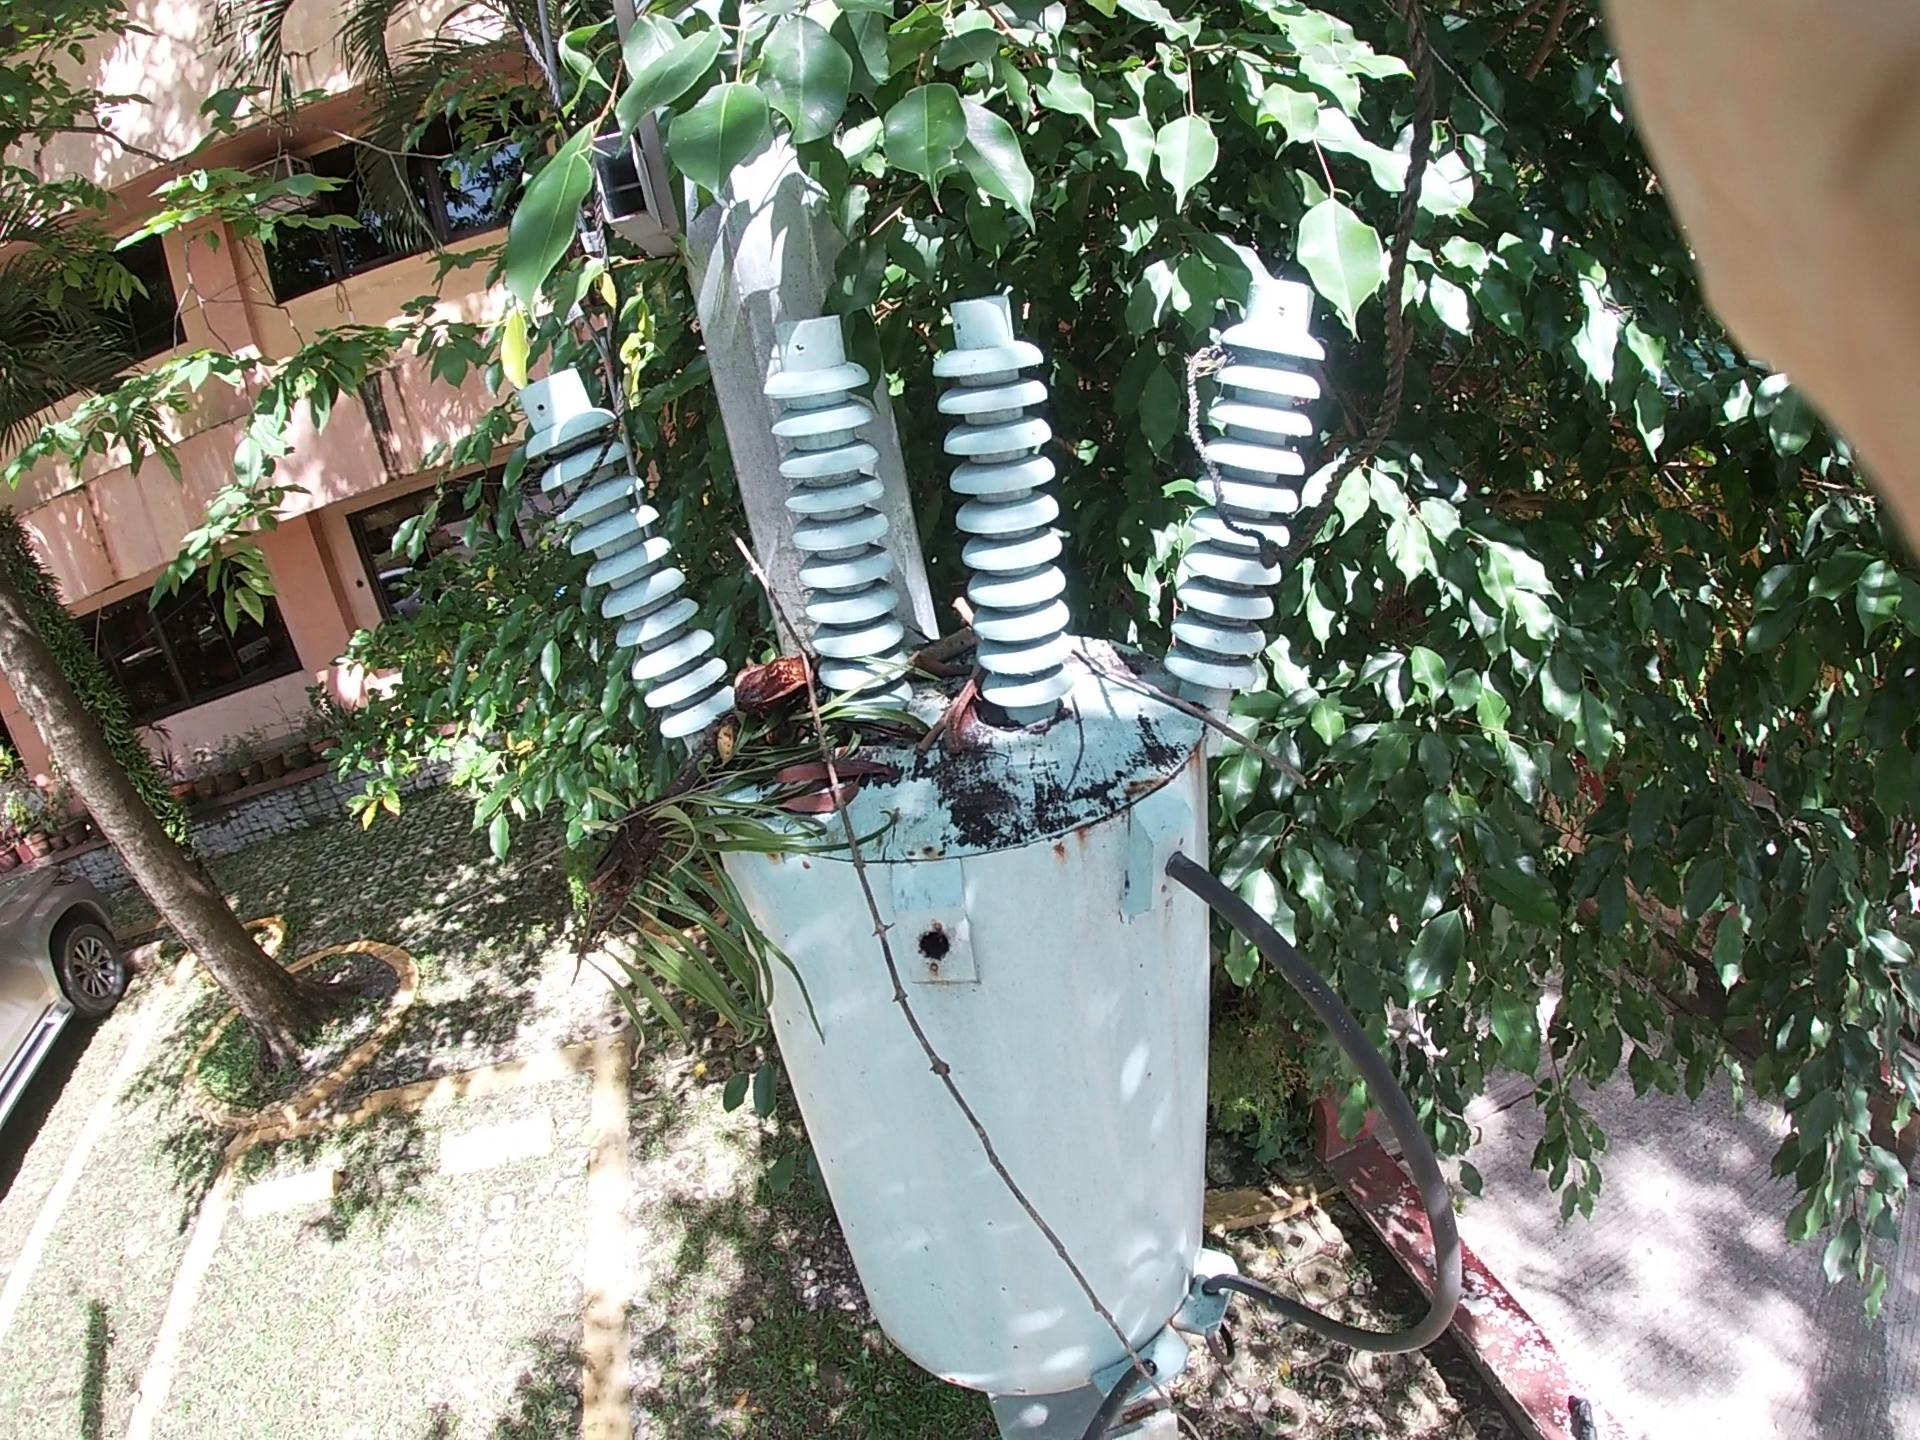branch with leaves: (490, 607, 810, 1050)
leaf: (800, 753, 874, 812)
mahogany fruit: (937, 656, 1028, 782), (729, 637, 822, 740)
tree branch: (726, 489, 1072, 1313), (1082, 616, 1333, 806), (901, 582, 1051, 844)
